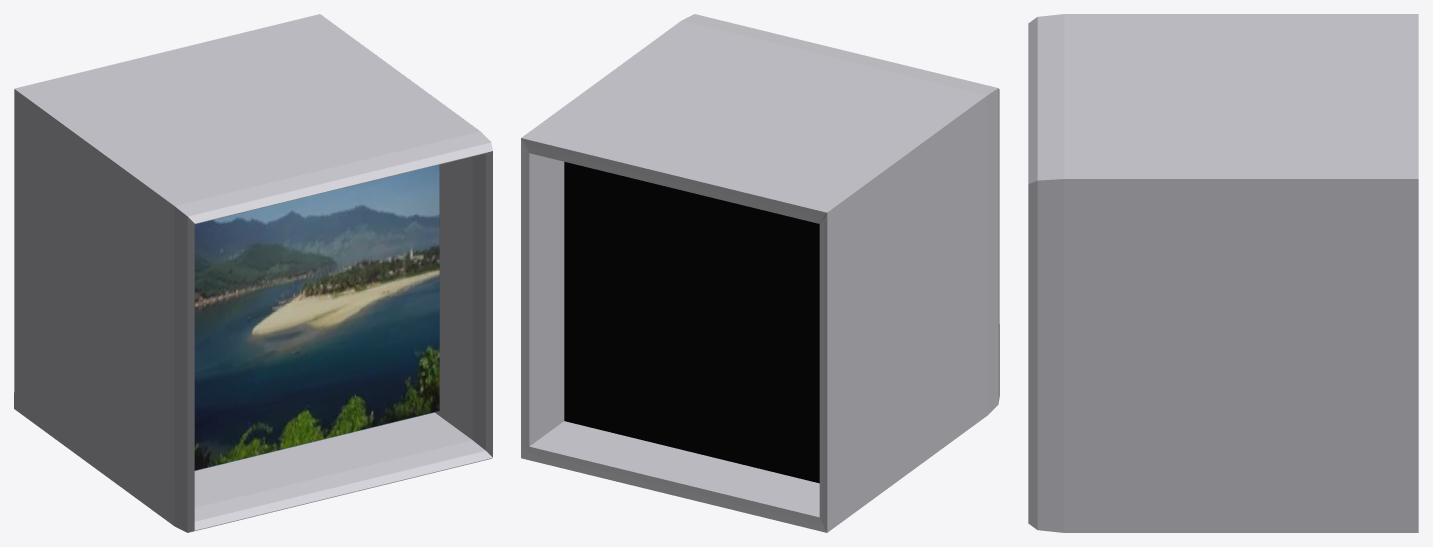
The model's file is sh-contrib-hai-van-pass-frame.glb.
3 views of the same model, side by side, from view 1: azimuth 30°, elevation 25°; view 2: azimuth 150°, elevation 25°; view 3: azimuth 270°, elevation 25° (orthographic). The views are drawn at different scales.
Visible parts, largest first — view 1: MetalFrame_Cylinder_Aluminium.004, Photo_Cube_Material_HaiVanPass.jpg; view 2: MetalFrame_Cylinder_Aluminium.004, Frame_Black_Material.005; view 3: MetalFrame_Cylinder_Aluminium.004.
Part boxes in pixels (bbox=[...]): MetalFrame_Cylinder_Aluminium.004: bbox=[14, 14, 492, 532]; Photo_Cube_Material_HaiVanPass.jpg: bbox=[191, 164, 439, 470]; MetalFrame_Cylinder_Aluminium.004: bbox=[521, 14, 999, 532]; Frame_Black_Material.005: bbox=[564, 162, 825, 483]; MetalFrame_Cylinder_Aluminium.004: bbox=[1028, 14, 1418, 532].
Bounding box in the file's own units: 1 × 1 × 1.
Materials: 3 (1 with a texture image).
